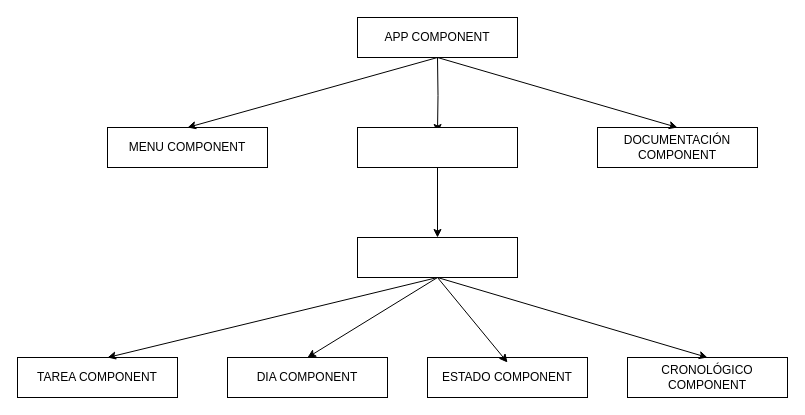
The diagram is 805 pixels wide and 415 high, and some of its shapes have lost their labels. Here are the shapes that lost their labels. From the top down, the centre of each, then its label:
(x=437, y=147): VIEWS
(x=437, y=257): LISTA COMPONENT
